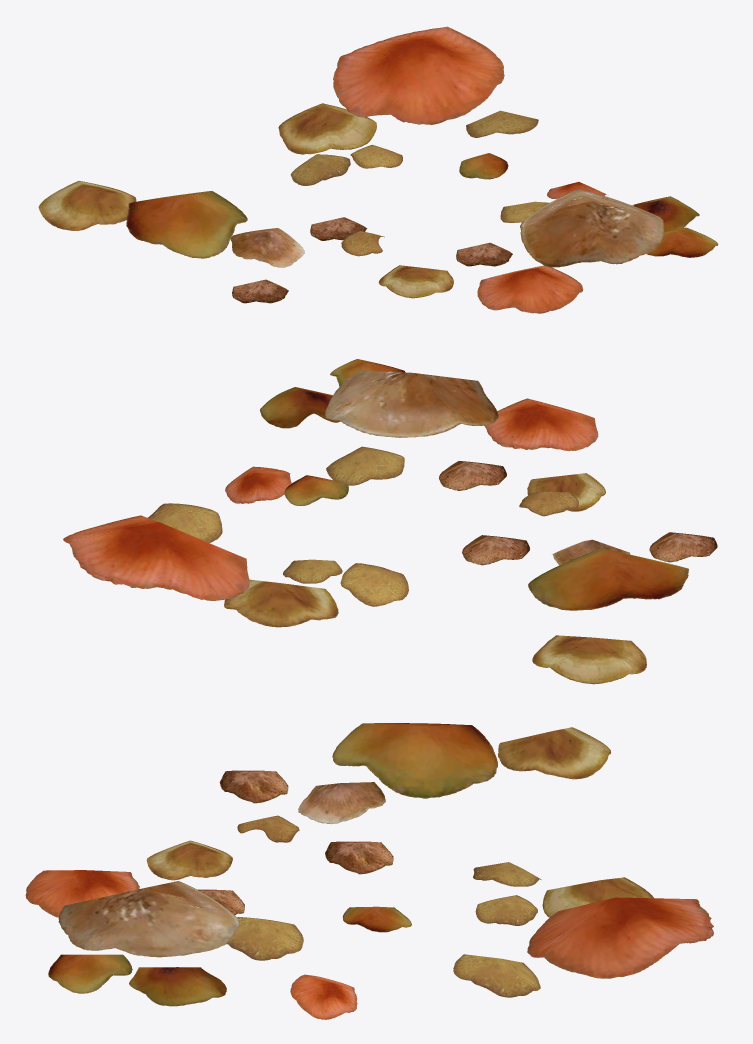
Rendered from fngi_mushroom_clump_a4_l1.fbx.
The picture shows the model from 3 angles, top to bottom: view 1: azimuth 30°, elevation 25°; view 2: azimuth 150°, elevation 25°; view 3: azimuth 270°, elevation 25°; orthographic projection. The views are drawn at different scales.
Visible parts, largest first — view 1: mesh_node; view 2: mesh_node; view 3: mesh_node.
Part boxes in pixels (box(x1,y1,x2,y2)): mesh_node: box(38, 26, 718, 313); mesh_node: box(63, 359, 717, 684); mesh_node: box(25, 723, 713, 1019).
Bounding box in the file's own units: 1.6 × 0.2338 × 1.66.
